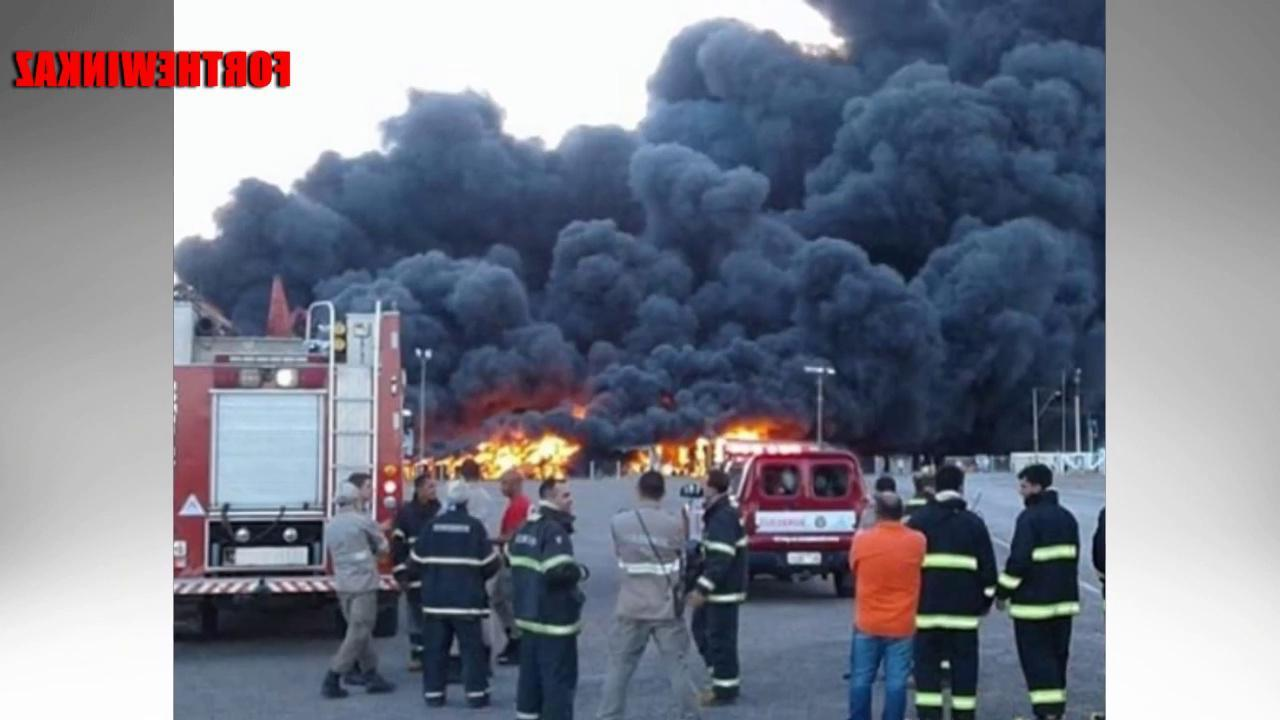Fire: (424, 434, 576, 486), (629, 430, 760, 474)
